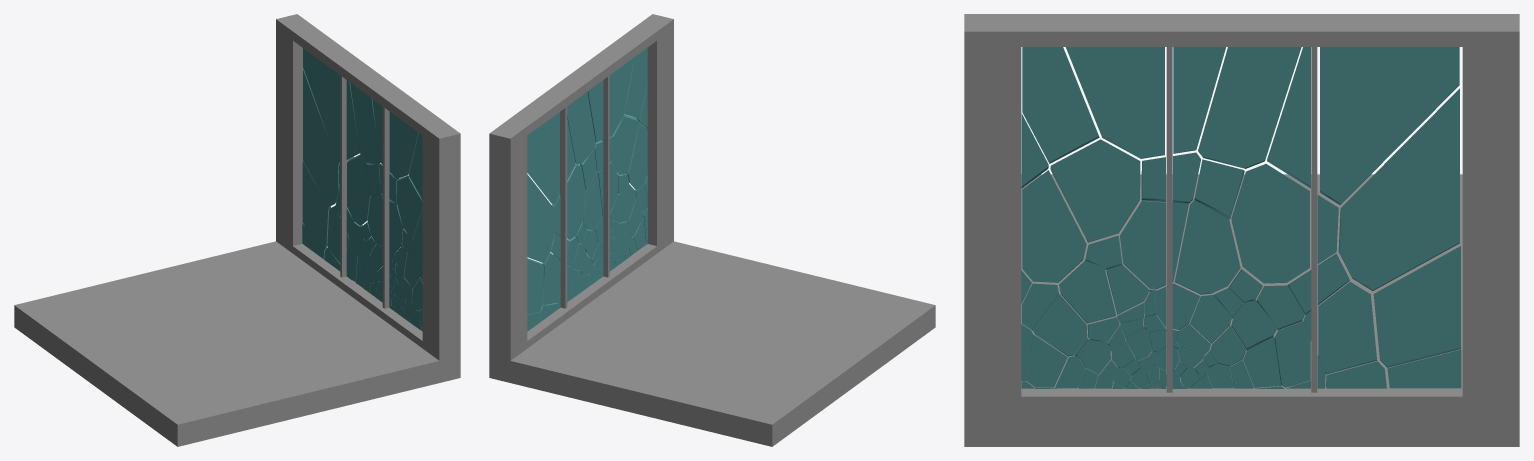
The model's file is MSH_Window_Side_Damaged_01.fbx.
3 renders of one model, left to right at view 1: azimuth 30°, elevation 25°; view 2: azimuth 150°, elevation 25°; view 3: azimuth 270°, elevation 25°, orthographic. The views are drawn at different scales.
Visible parts, largest first — view 1: MSH_Window_Side_Damaged_01; view 2: MSH_Window_Side_Damaged_01; view 3: MSH_Window_Side_Damaged_01.
Part boxes in pixels (x1,y1,x2,y2): MSH_Window_Side_Damaged_01: (14,14,460,446); MSH_Window_Side_Damaged_01: (489,14,935,446); MSH_Window_Side_Damaged_01: (964,14,1519,446).
Bounding box in the file's own units: 157 × 130 × 157.
